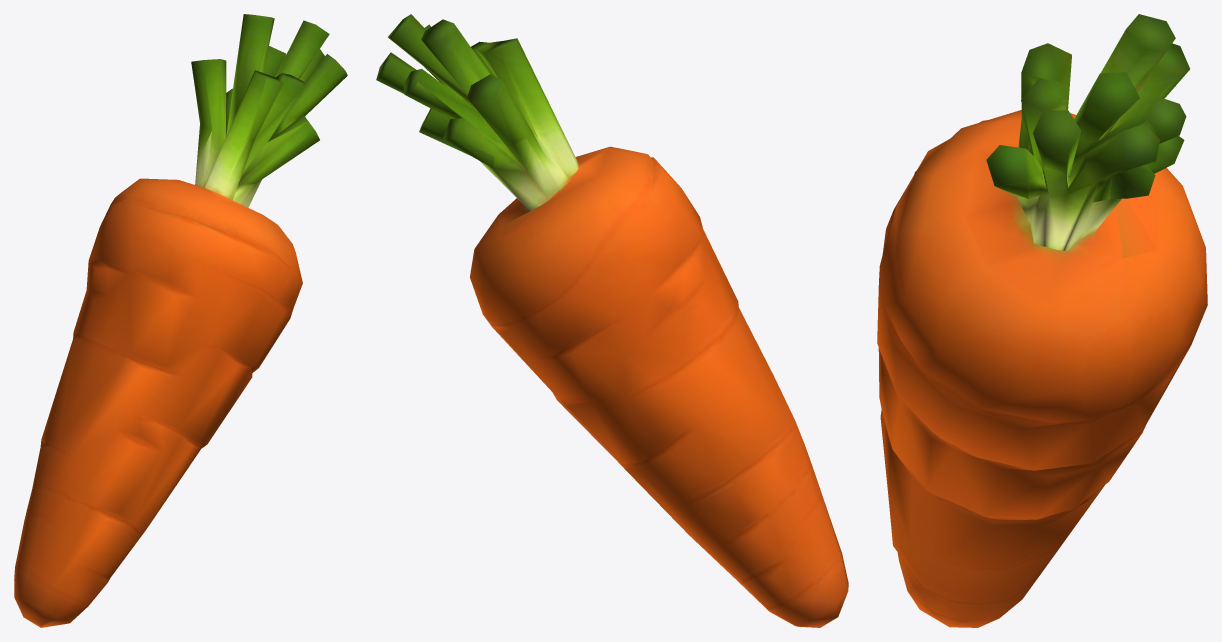
The model's file is carotte.glb.
The picture shows the model from 3 angles, left to right: view 1: azimuth 30°, elevation 25°; view 2: azimuth 150°, elevation 25°; view 3: azimuth 270°, elevation 25°; orthographic projection. The views are drawn at different scales.
Visible parts, largest first — view 1: LOD0; view 2: LOD0; view 3: LOD0.
Part boxes in pixels (x1,y1,x2,y2): LOD0: (14, 14, 347, 627); LOD0: (376, 14, 848, 627); LOD0: (877, 14, 1207, 627).
Size of what is drawn, in the model's own units: 0.7386 by 0.997 by 0.369.
1 material, 1 textured.
